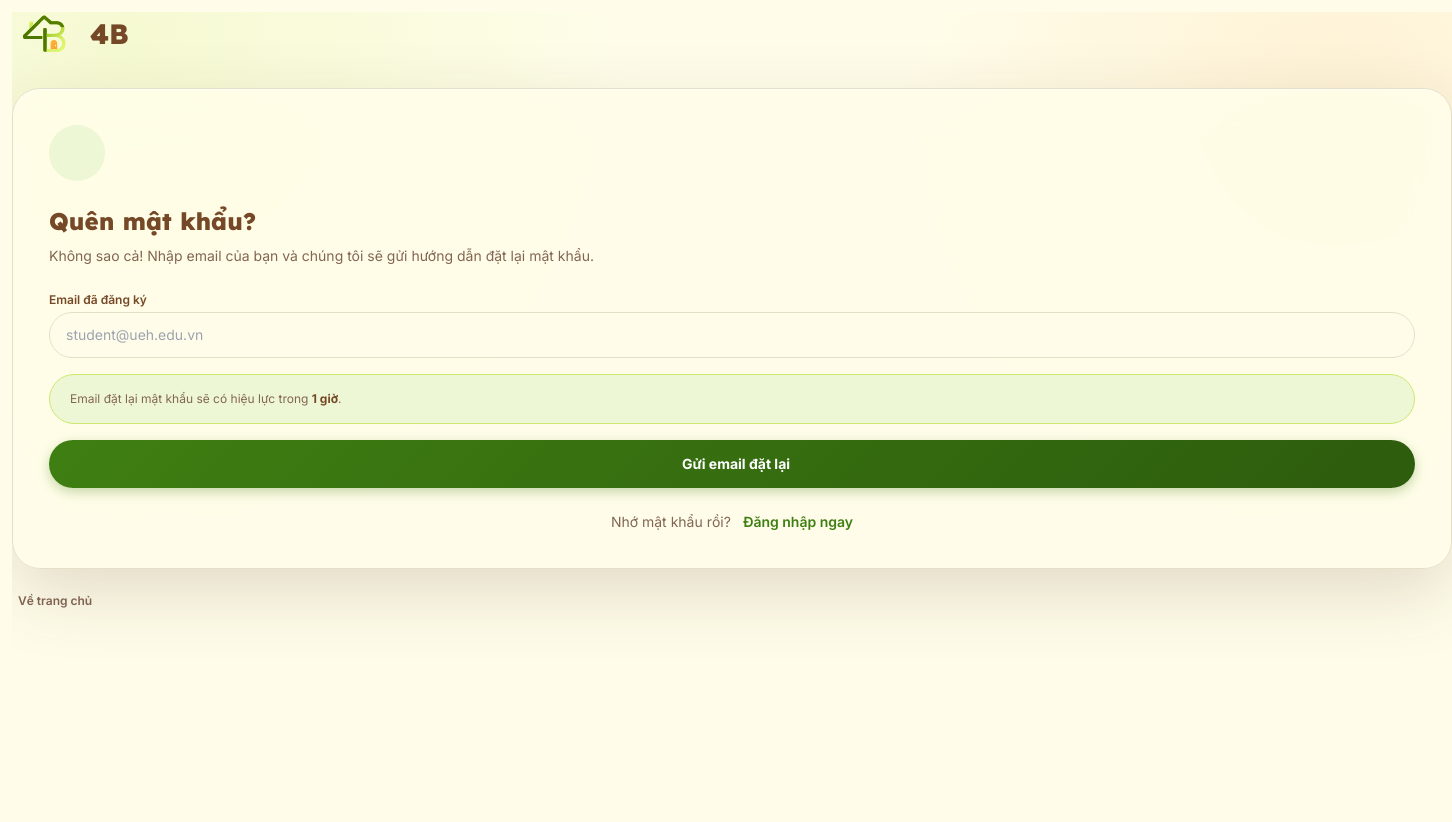
Authentication Pages › ForgotPasswordPage › renders forgot password form and validates email
Check: the field with placeholder "student@ueh.edu.vn" is shown, box [49,312,1415,358]
Click the button "Gửi email đặt lại". click: coordinates (732, 464)
box: [49,440,1415,488]
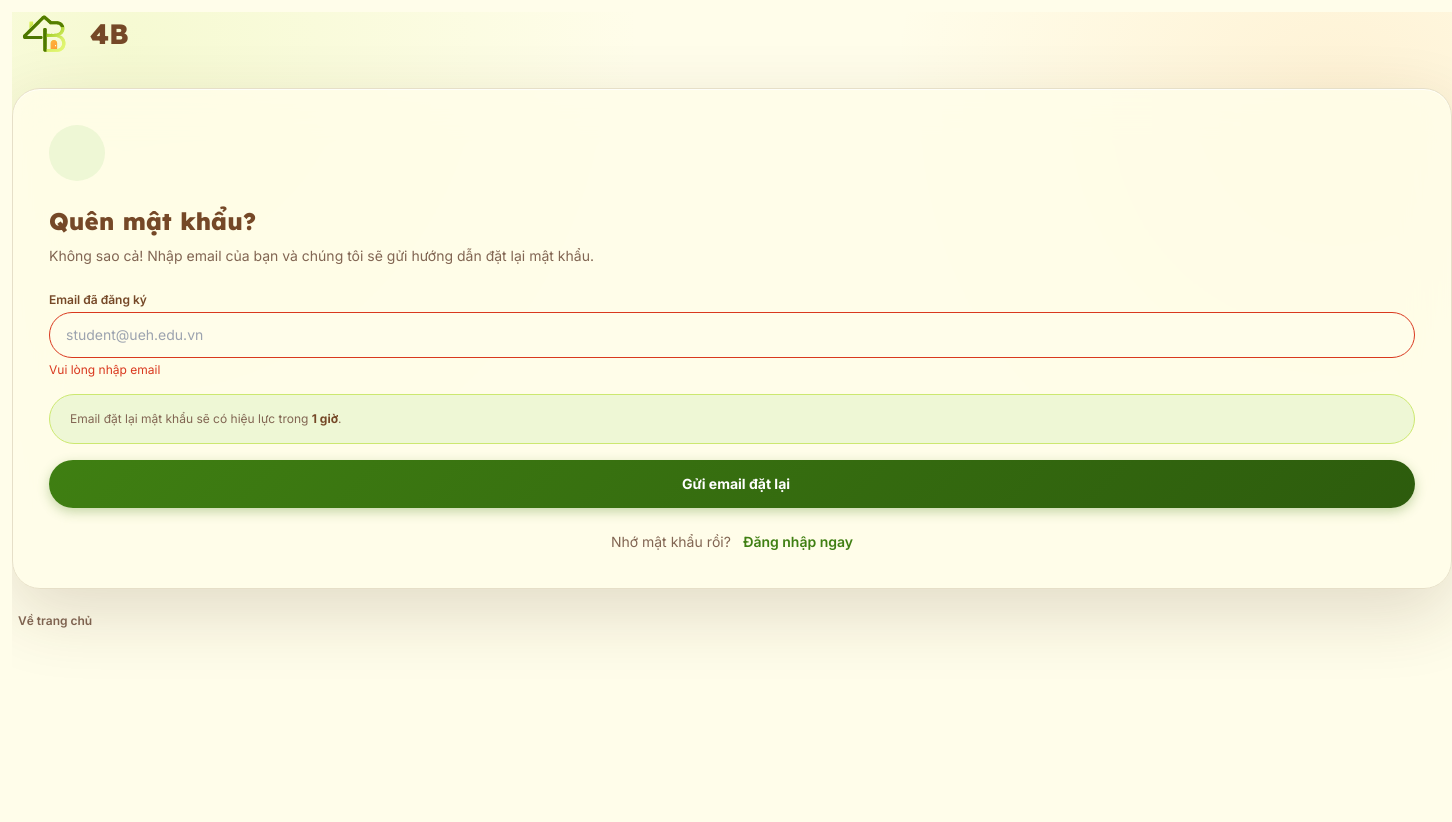
Check: the text "Vui lòng nhập email" is shown, box [49,362,160,377]
